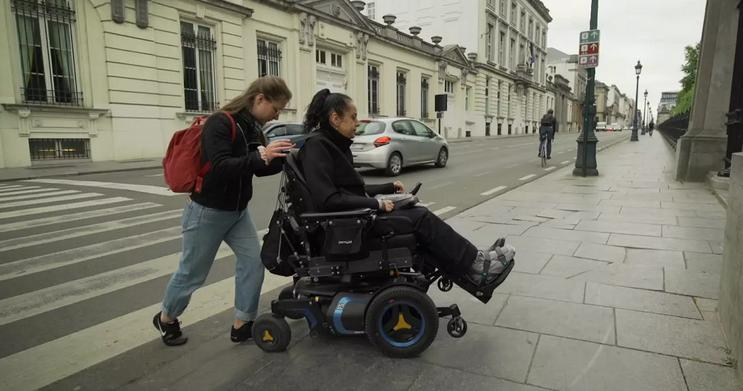push_wheelchair: (152, 75, 296, 346)
wheelchair: (251, 88, 516, 359)
